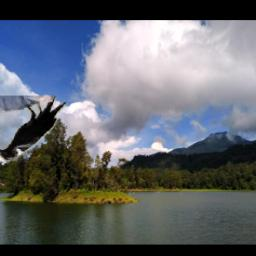Crow: (0, 96, 70, 162)
